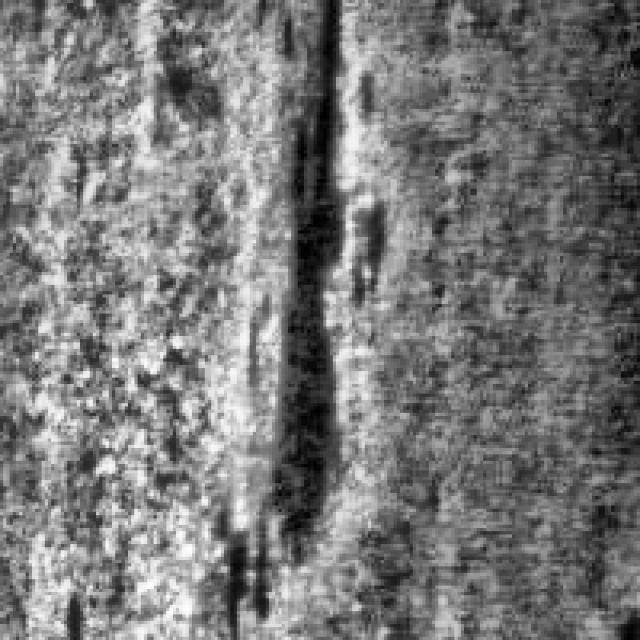Patches: (202, 0, 342, 627)
